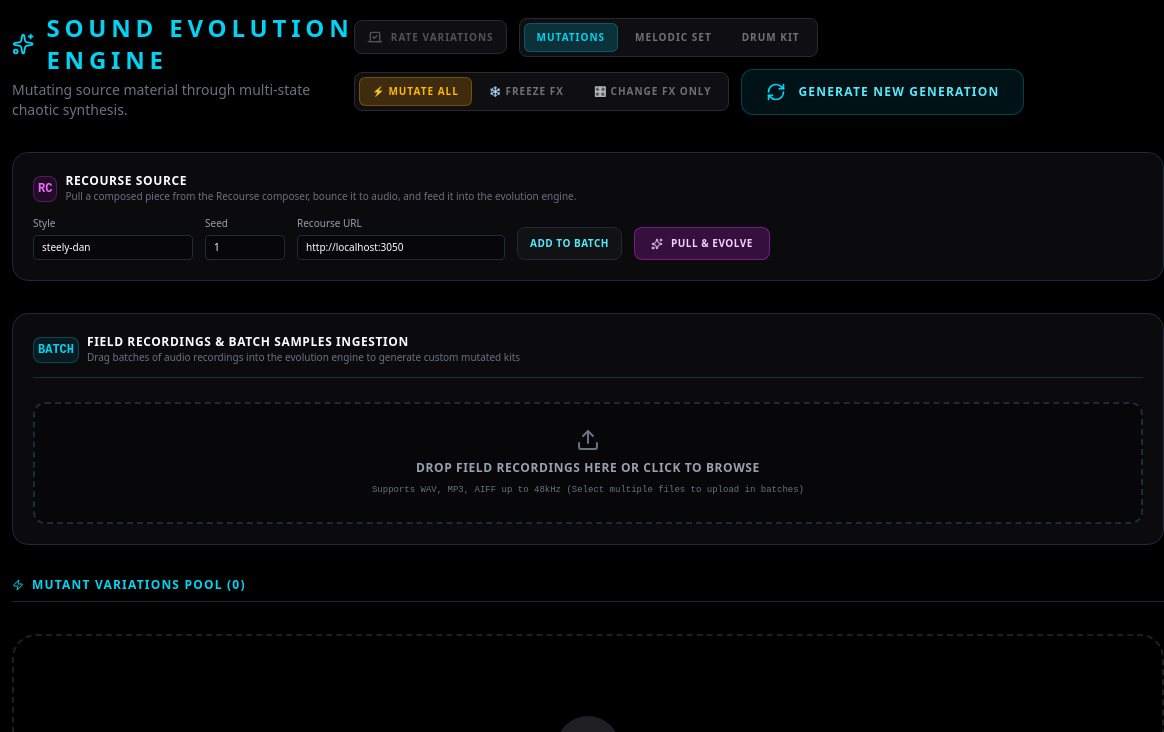
it: EvolutionPanel Recourse source › surfaces pull errors
Step 1. Click the button "Add to Batch" → (570, 244), box [517,227,622,260]
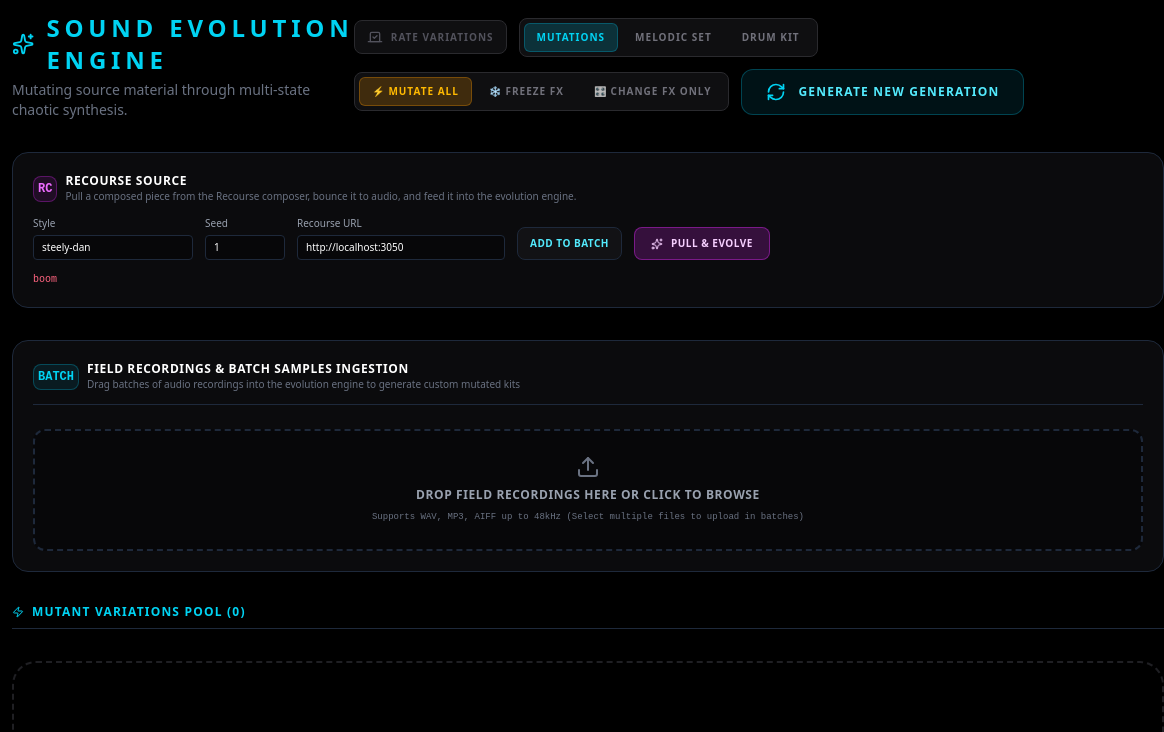
Now the text "boom" is shown, box [33,274,57,285]
